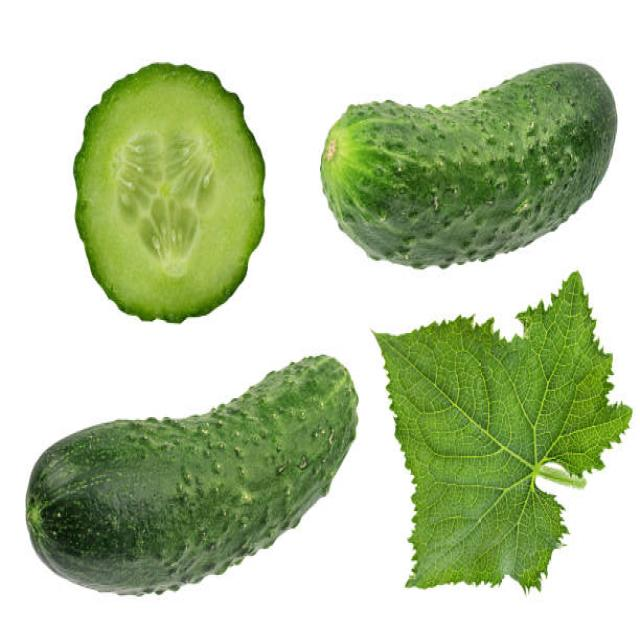cucumber: (25, 350, 359, 596), (318, 62, 616, 267)
